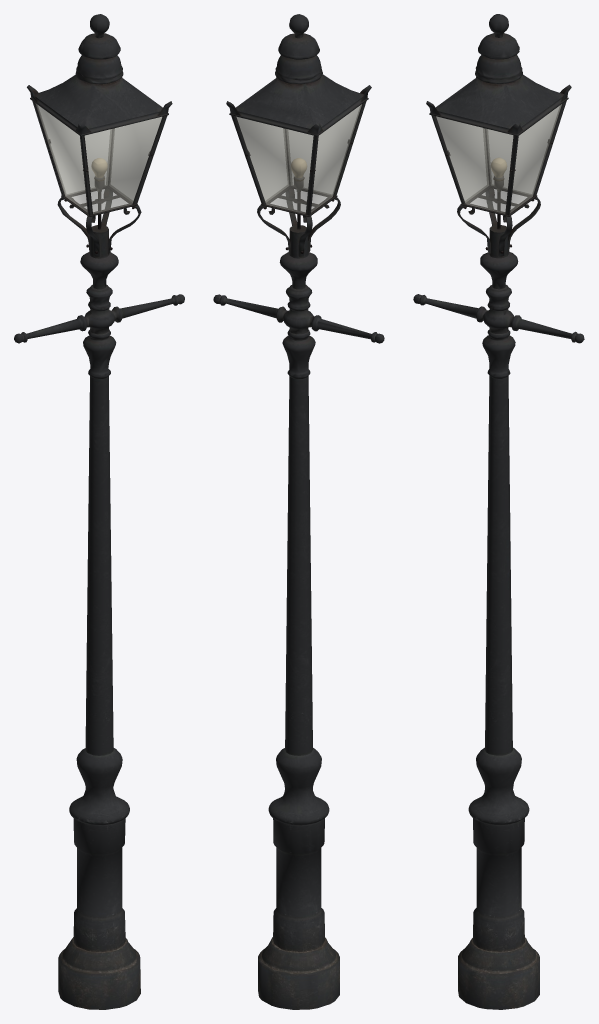
File: StreetLamp.obj
The picture shows the model from 3 angles, left to right: view 1: azimuth 30°, elevation 25°; view 2: azimuth 150°, elevation 25°; view 3: azimuth 330°, elevation 25°; orthographic projection.
Parts seen in each view (by area): view 1: street_lamp_01_16ad29, street_lamp_01_2c61c8; view 2: street_lamp_01_16ad29, street_lamp_01_2c61c8; view 3: street_lamp_01_16ad29, street_lamp_01_2c61c8.
Part boxes in pixels (left/top/right/bottom): street_lamp_01_16ad29: left=14, top=14, right=184, bottom=1009; street_lamp_01_2c61c8: left=36, top=104, right=162, bottom=213; street_lamp_01_16ad29: left=213, top=14, right=384, bottom=1009; street_lamp_01_2c61c8: left=236, top=104, right=361, bottom=213; street_lamp_01_16ad29: left=413, top=14, right=584, bottom=1009; street_lamp_01_2c61c8: left=436, top=104, right=561, bottom=213.
Bounding box in the file's own units: 0.7032 × 3.87 × 0.3862.
Materials: 3 (1 with a texture image).
